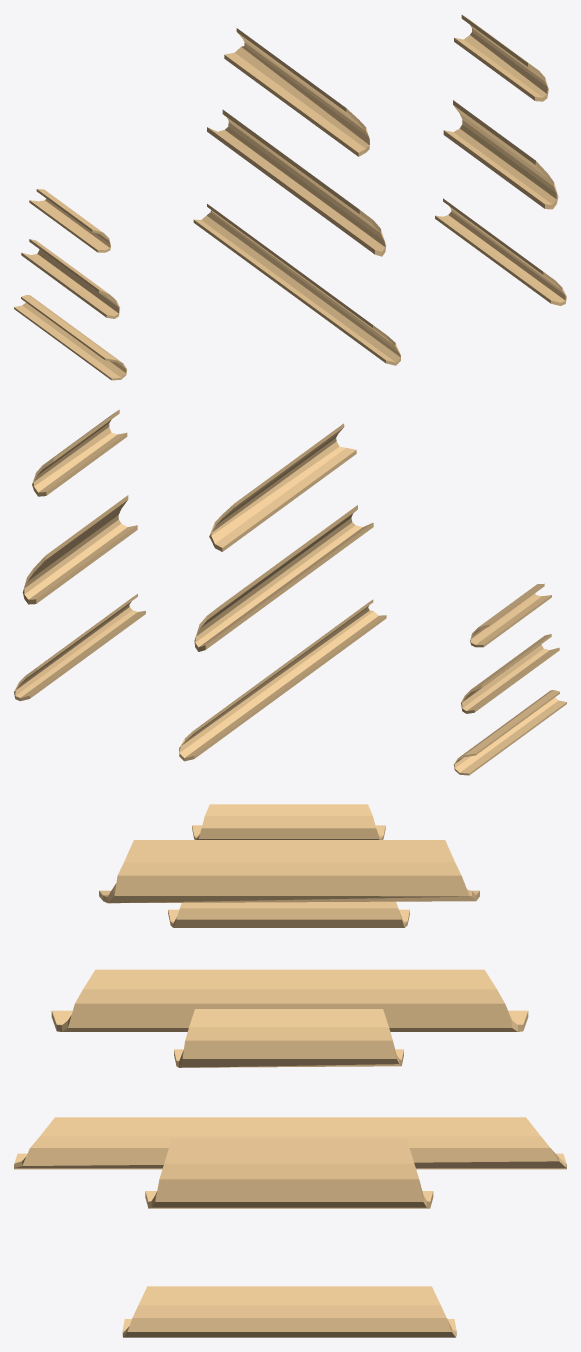
The model's file is Sails1Q.fbx.
3 views of the same model, one above another, from view 1: azimuth 30°, elevation 25°; view 2: azimuth 150°, elevation 25°; view 3: azimuth 270°, elevation 25° (orthographic). The views are drawn at different scales.
Parts seen in each view (by area): view 1: Sail 1Q Mid 3, Sail 1Q Mid 2, Sail 1Q Mid 1, Sail 1Q Front 2, Sail 1Q Front 3, Sail 1Q Front 1, Sail 1Q Back 3, Sail 1Q Back 2, Sail 1Q Back 1; view 2: Sail 1Q Mid 3, Sail 1Q Mid 2, Sail 1Q Mid 1, Sail 1Q Front 2, Sail 1Q Front 3, Sail 1Q Front 1, Sail 1Q Back 3, Sail 1Q Back 2, Sail 1Q Back 1; view 3: Sail 1Q Mid 2, Sail 1Q Mid 1, Sail 1Q Mid 3, Sail 1Q Front 2, Sail 1Q Front 3, Sail 1Q Front 1, Sail 1Q Back 1, Sail 1Q Back 2.
Part boxes in pixels (x1,y1,x2,y2): Sail 1Q Mid 3: (193, 204, 400, 365); Sail 1Q Mid 2: (207, 109, 386, 256); Sail 1Q Mid 1: (224, 28, 369, 156); Sail 1Q Front 2: (443, 100, 558, 209); Sail 1Q Front 3: (435, 198, 566, 305); Sail 1Q Front 1: (454, 15, 548, 101); Sail 1Q Back 3: (14, 295, 127, 380); Sail 1Q Back 2: (21, 239, 119, 318); Sail 1Q Back 1: (29, 189, 110, 252); Sail 1Q Mid 3: (179, 599, 386, 761); Sail 1Q Mid 2: (194, 505, 373, 651); Sail 1Q Mid 1: (209, 423, 356, 551); Sail 1Q Front 2: (22, 495, 137, 604); Sail 1Q Front 3: (14, 594, 145, 701); Sail 1Q Front 1: (32, 409, 127, 496); Sail 1Q Back 3: (453, 690, 566, 775); Sail 1Q Back 2: (461, 634, 559, 713); Sail 1Q Back 1: (470, 583, 551, 647); Sail 1Q Mid 2: (51, 969, 528, 1031); Sail 1Q Mid 1: (99, 840, 479, 903); Sail 1Q Mid 3: (14, 1117, 566, 1169); Sail 1Q Front 2: (145, 1139, 433, 1208); Sail 1Q Front 3: (122, 1286, 456, 1337); Sail 1Q Front 1: (174, 1009, 403, 1067); Sail 1Q Back 1: (192, 804, 385, 839); Sail 1Q Back 2: (168, 901, 409, 927).
Bounding box in the file's own units: 8166 × 10852 × 5696.
